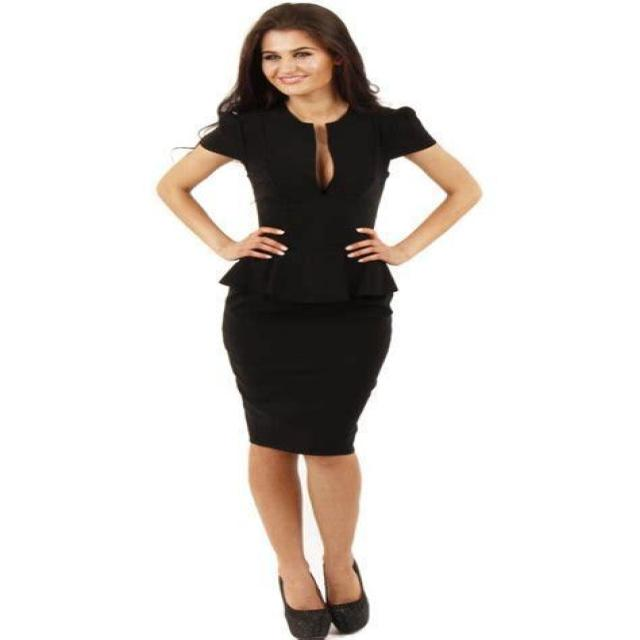dress: (195, 98, 438, 456)
